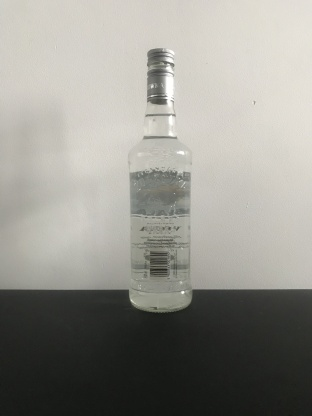nakretka: (145, 45, 176, 104)
